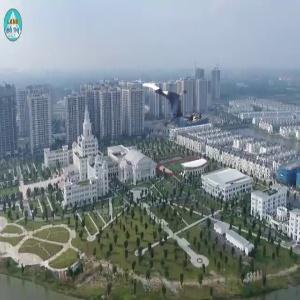drone: (139, 76, 197, 134)
